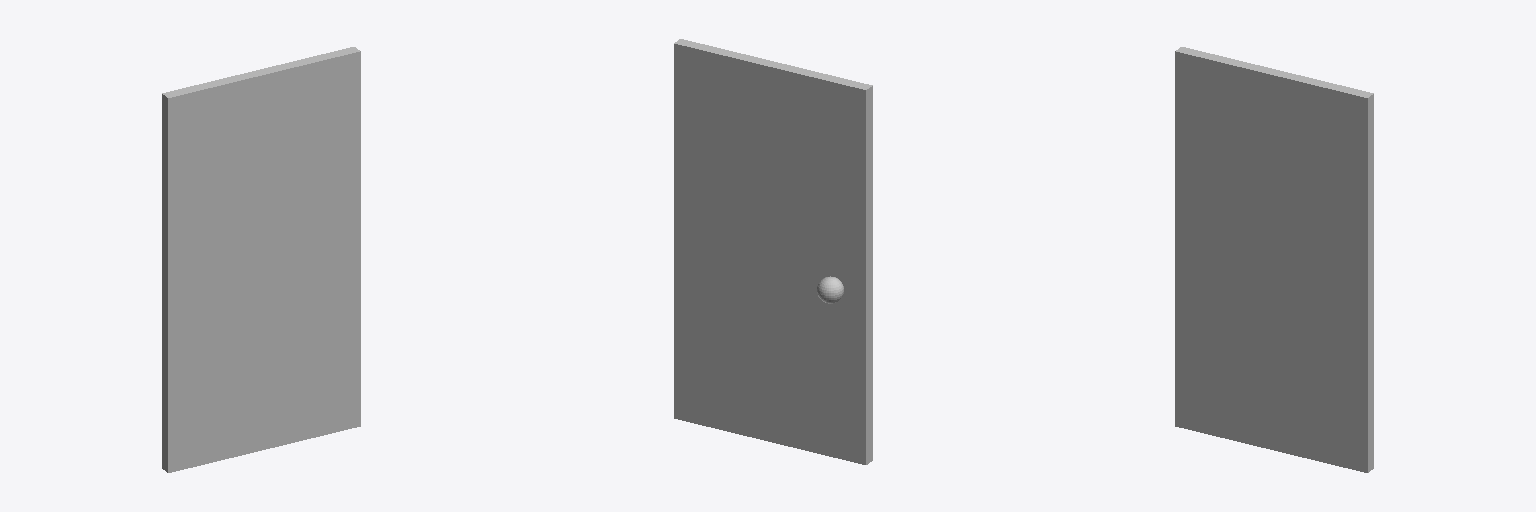
The model's file is porte.obj.
3 renders of one model, left to right at view 1: azimuth 30°, elevation 25°; view 2: azimuth 150°, elevation 25°; view 3: azimuth 330°, elevation 25°, orthographic.
Visible parts, largest first — view 1: Cube.001; view 2: Cube.001; view 3: Cube.001.
Part boxes in pixels (bbox=[...]): Cube.001: bbox=[162, 47, 360, 472]; Cube.001: bbox=[674, 39, 872, 464]; Cube.001: bbox=[1175, 47, 1373, 472].
Bounding box in the file's own units: 1.62 × 3.03 × 0.2534.